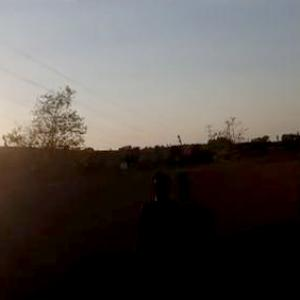follow: (131, 175, 187, 299)
